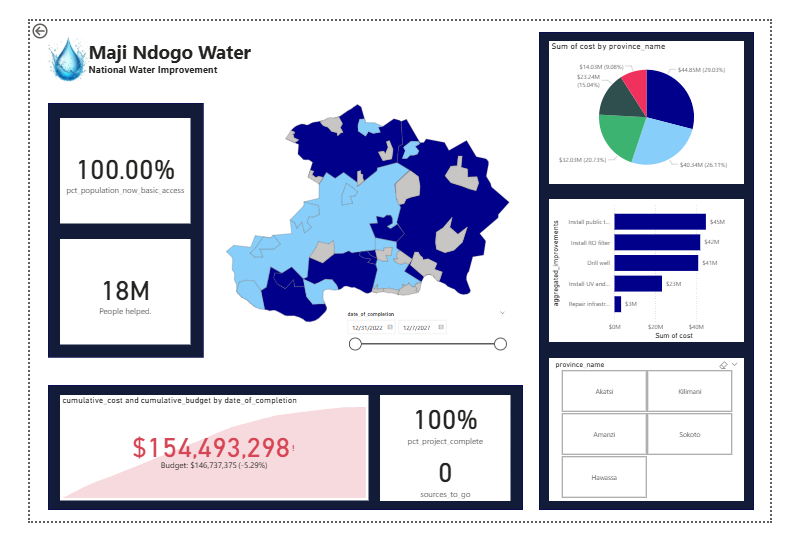

What the dashboard file says about the page in this screenshot:
{"tool":"powerbi","page":{"name":"Public Dashboard","canvas":[1480,1000],"ordinal":0},"visuals":[{"type":"image","box":[9.3,13,131.5,129.6],"z":0},{"type":"textbox","box":[111.1,29.6,351.9,107.4],"z":1000},{"type":"shape","box":[1018,22,430,956],"z":2000},{"type":"shape","box":[36,728,950,250],"z":3000},{"type":"shape","box":[35.2,164.8,311.1,509.3],"z":4000},{"type":"shapeMap","fields":{"Series":["project_progress.date_of_completion"],"Value":["project_progress.pct_project_complete"],"Category":["project_progress.town"]},"box":[355.6,111.1,638.9,544.4],"z":5000},{"type":"slicer","fields":{"Values":["project_progress.date_of_completion"]},"box":[622,574,340,134],"z":6000},{"type":"slicer","fields":{"Values":["location.province_name"]},"box":[1038,674,390,286],"z":7000},{"type":"card","fields":{"Values":["project_progress.pct_population_now_basic_access"]},"box":[59.3,194.4,261.1,211.1],"z":8000},{"type":"kpi","fields":{"Indicator":["project_progress.cumulative_cost"],"TrendLine":["project_progress.date_of_completion"],"Goal":["project_progress.cumulative_budget"]},"box":[59.3,748.1,616.7,211.1],"z":9000},{"type":"card","fields":{"Values":["project_progress.population_now_basic_access"]},"box":[59.3,435.2,261.1,211.1],"z":10000},{"type":"actionButton","box":[0,0,100,40],"z":11000},{"type":"card","fields":{"Values":["project_progress.pct_project_complete"]},"box":[700,748.1,261.1,105.6],"z":12000},{"type":"card","fields":{"Values":["project_progress.sources_to_go"]},"box":[700,853.7,261.1,105.6],"z":13000},{"type":"pieChart","fields":{"Y":["Sum(project_progress.cost)"],"Category":["location.province_name"]},"box":[1038,40,390,286],"z":14000},{"type":"barChart","fields":{"Category":["project_progress.aggregated_improvements"],"Y":["Sum(project_progress.cost)"]},"box":[1038,356,390,286],"z":15000}]}

Visuals, with their boxes in screenshot pixels (x1, y1, x2, y2), scaled from the page's 1480x1000 canvas onto the 802x537 screenshot:
image: [5,7,76,77]
textbox: [60,16,251,74]
shape: [552,12,785,525]
shape: [20,391,534,525]
shape: [19,88,188,362]
shapeMap - project_progress.date_of_completion x project_progress.pct_project_complete: [193,60,539,352]
slicer - project_progress.date_of_completion: [337,308,521,380]
slicer - location.province_name: [562,362,774,516]
card - project_progress.pct_population_now_basic_access: [32,104,174,218]
kpi - project_progress.cumulative_cost x project_progress.date_of_completion: [32,402,366,515]
card - project_progress.population_now_basic_access: [32,234,174,347]
actionButton: [0,0,54,21]
card - project_progress.pct_project_complete: [379,402,521,458]
card - project_progress.sources_to_go: [379,458,521,515]
pieChart - Sum(project_progress.cost) x location.province_name: [562,21,774,175]
barChart - project_progress.aggregated_improvements x Sum(project_progress.cost): [562,191,774,345]
